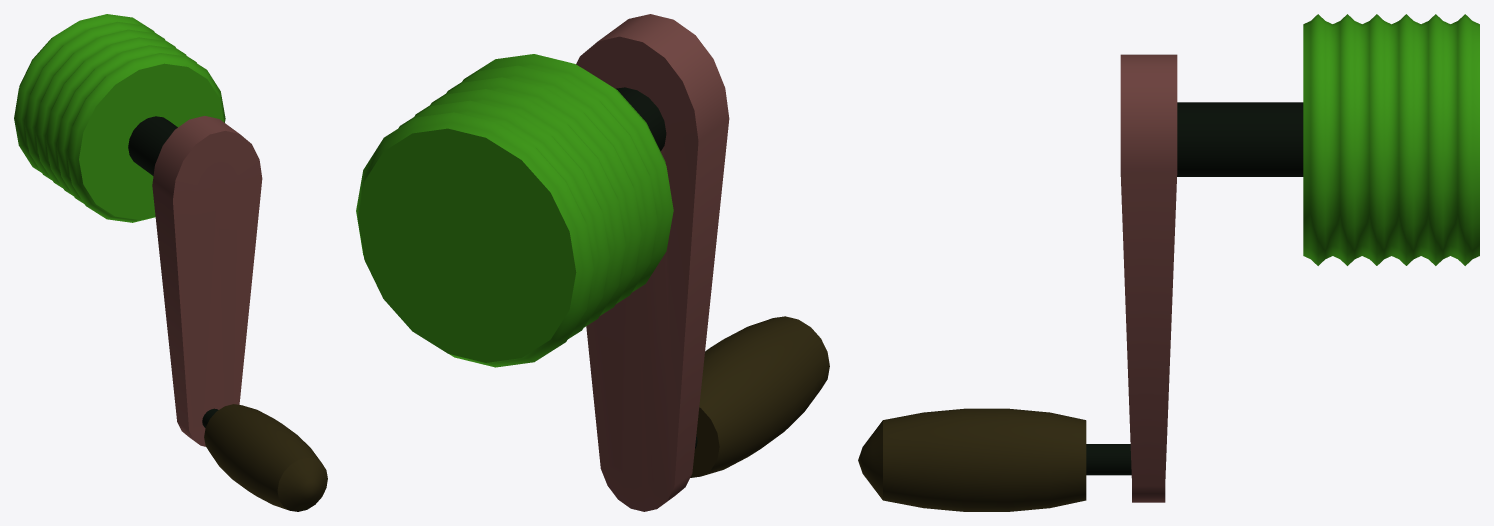
Rendered from gear.fbx.
3 renders of one model, left to right at view 1: azimuth 30°, elevation 25°; view 2: azimuth 150°, elevation 25°; view 3: azimuth 270°, elevation 25°, orthographic. The views are drawn at different scales.
Parts seen in each view (by area): view 1: gear; view 2: gear; view 3: gear.
Boxes of the visible parts, x1,y1,x2,y2 form: gear: (14, 14, 327, 511); gear: (356, 14, 829, 511); gear: (858, 14, 1479, 511).
Bounding box in the file's own units: 13.03 × 27.26 × 32.01.
